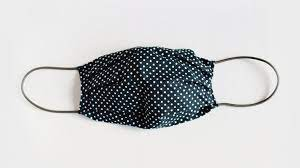FaceMask: (21, 48, 280, 129)
